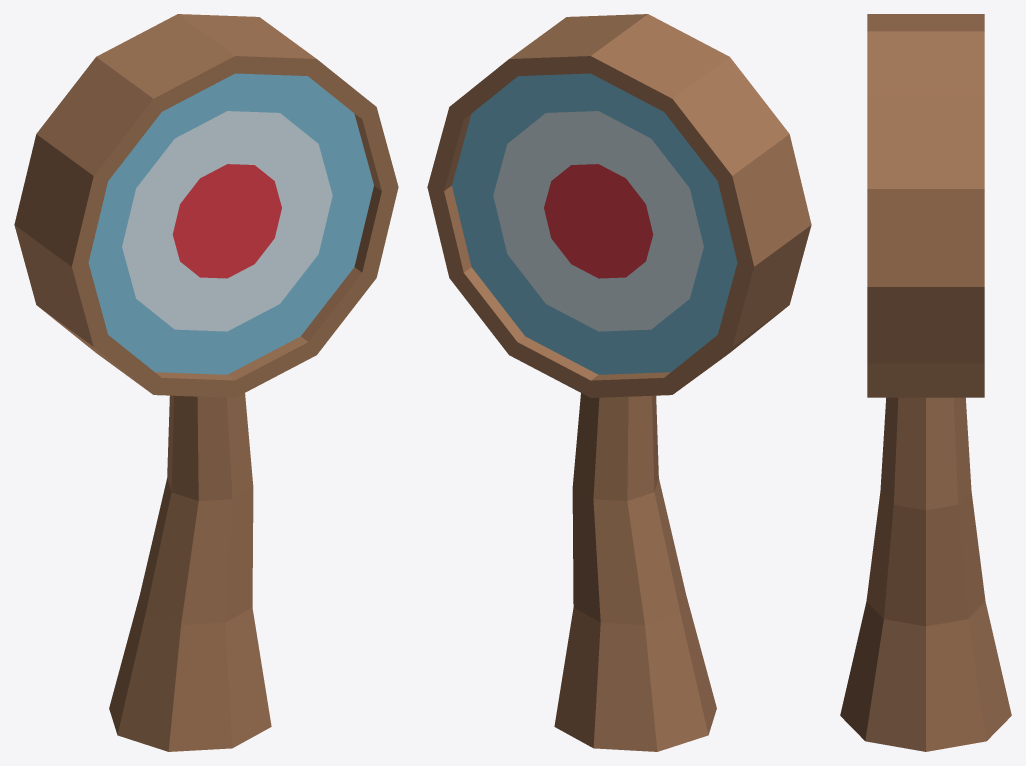
File: Aim_Target.fbx
3 views of the same model, side by side, from view 1: azimuth 30°, elevation 25°; view 2: azimuth 150°, elevation 25°; view 3: azimuth 270°, elevation 25° (orthographic). The views are drawn at different scales.
Parts seen in each view (by area): view 1: Aim_Target_Geo; view 2: Aim_Target_Geo; view 3: Aim_Target_Geo.
Part boxes in pixels (<box>): Aim_Target_Geo: <box>14,14,398,751</box>; Aim_Target_Geo: <box>427,14,811,751</box>; Aim_Target_Geo: <box>840,14,1011,751</box>.
Size of the model in its own units: 24.36 by 48.34 by 10.87.
